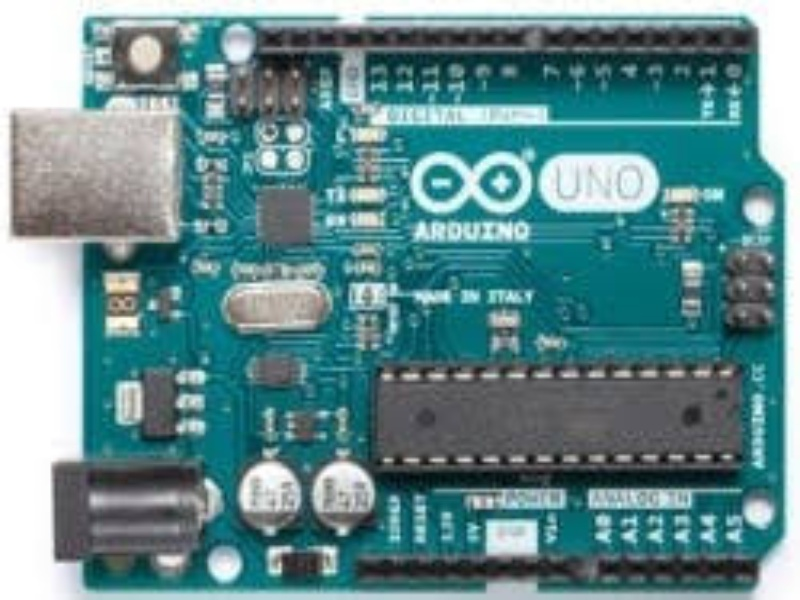uno: (35, 16, 790, 593)
